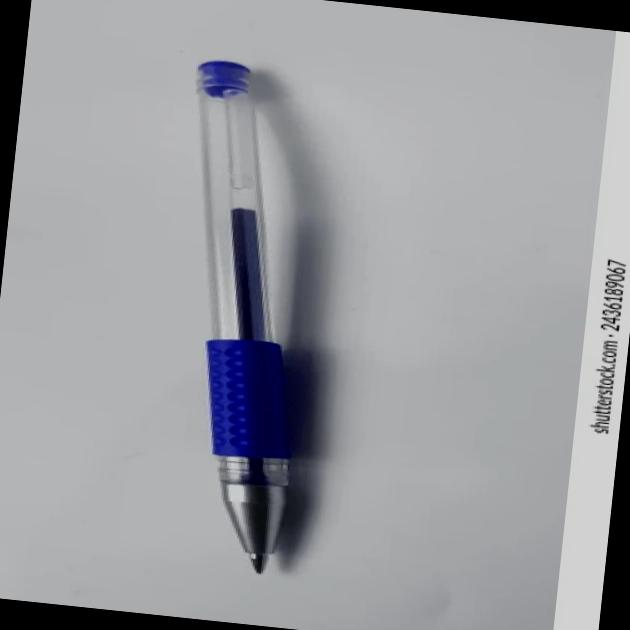pen: (125, 48, 390, 586)
